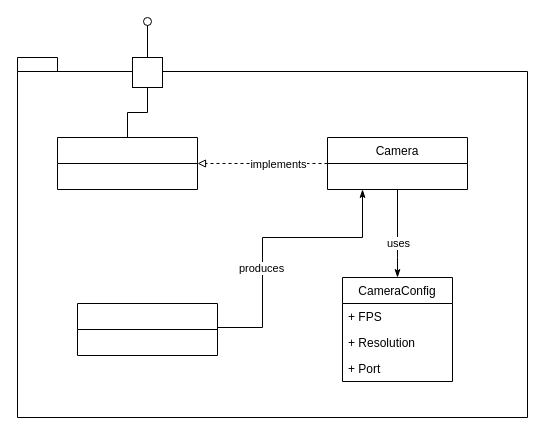
The diagram is 545 pixels wide and 435 high, and some of its shapes have lost their labels. Here are the shapes that lost their labels. From the top down, the centre of each, then its label:
At [127,163]: "CameraInterface".
At [147,329]: "CameraFactory".
